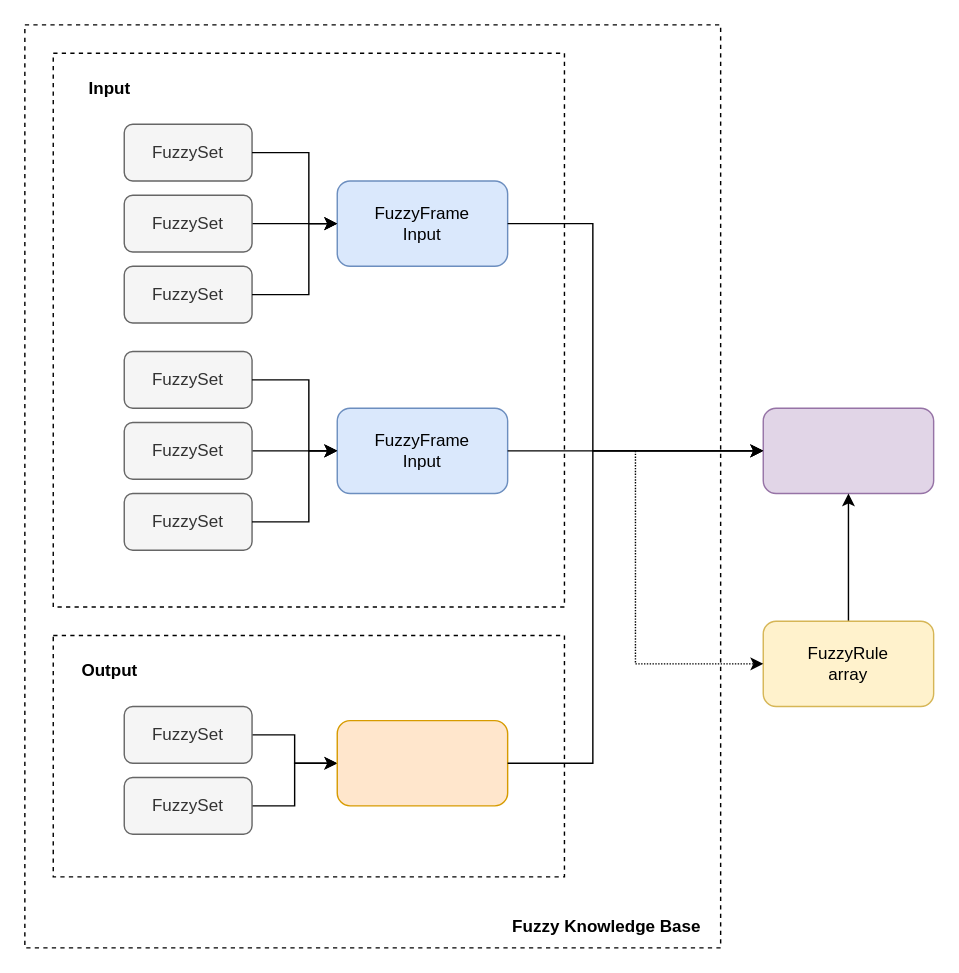
This 959x973 diagram has some shape labels left out. Here are the shapes that lost their labels. From the top down, the centre of each, then its label:
(848,450): FuzzySystem
(422,762): FuzzyFrame Output
